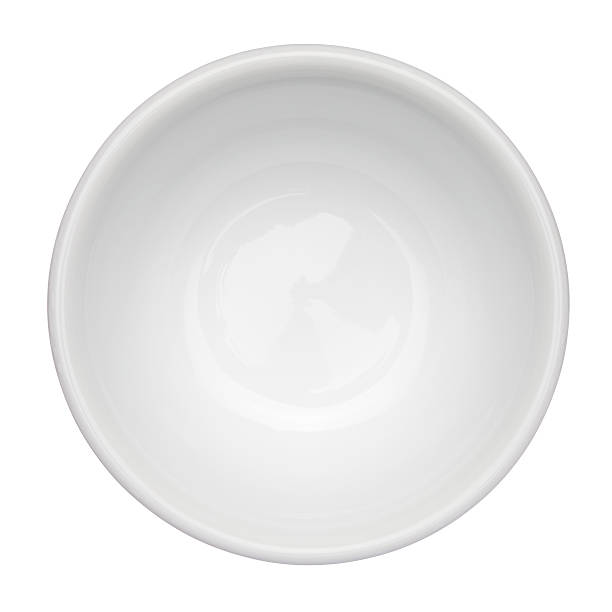Bowl: (23, 27, 580, 581)
